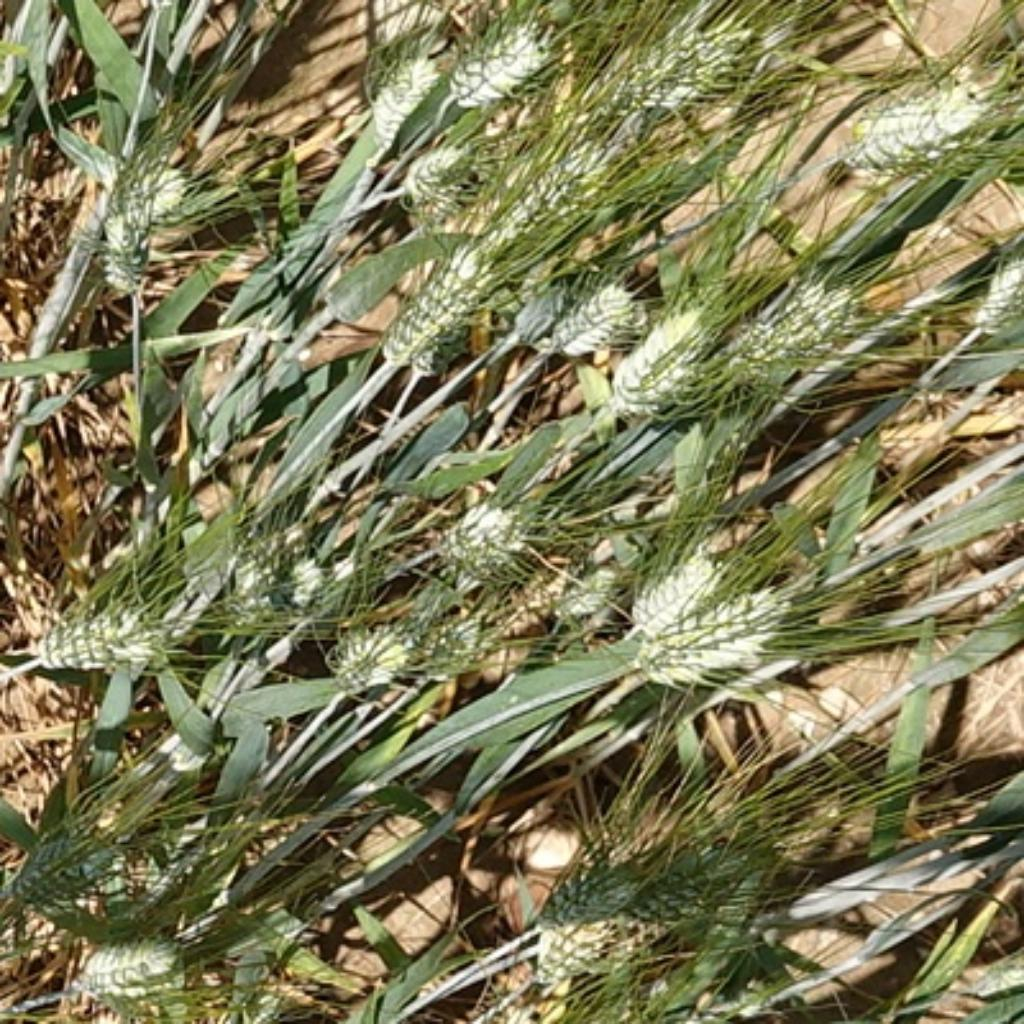0-0: (576, 5, 791, 143), (824, 40, 1008, 194), (609, 568, 814, 704), (519, 872, 714, 1003), (716, 258, 883, 399), (371, 225, 501, 368), (2, 585, 179, 690), (0, 774, 119, 919), (601, 294, 719, 417), (471, 161, 606, 263), (66, 921, 199, 1018), (616, 537, 732, 647), (422, 471, 540, 578), (115, 812, 221, 920), (396, 604, 519, 696), (517, 261, 642, 350), (437, 7, 552, 102), (517, 550, 632, 632), (355, 30, 442, 138), (322, 606, 427, 688), (394, 128, 481, 204), (969, 237, 1024, 344), (124, 151, 189, 222), (103, 204, 151, 296), (547, 1021, 698, 1024)
